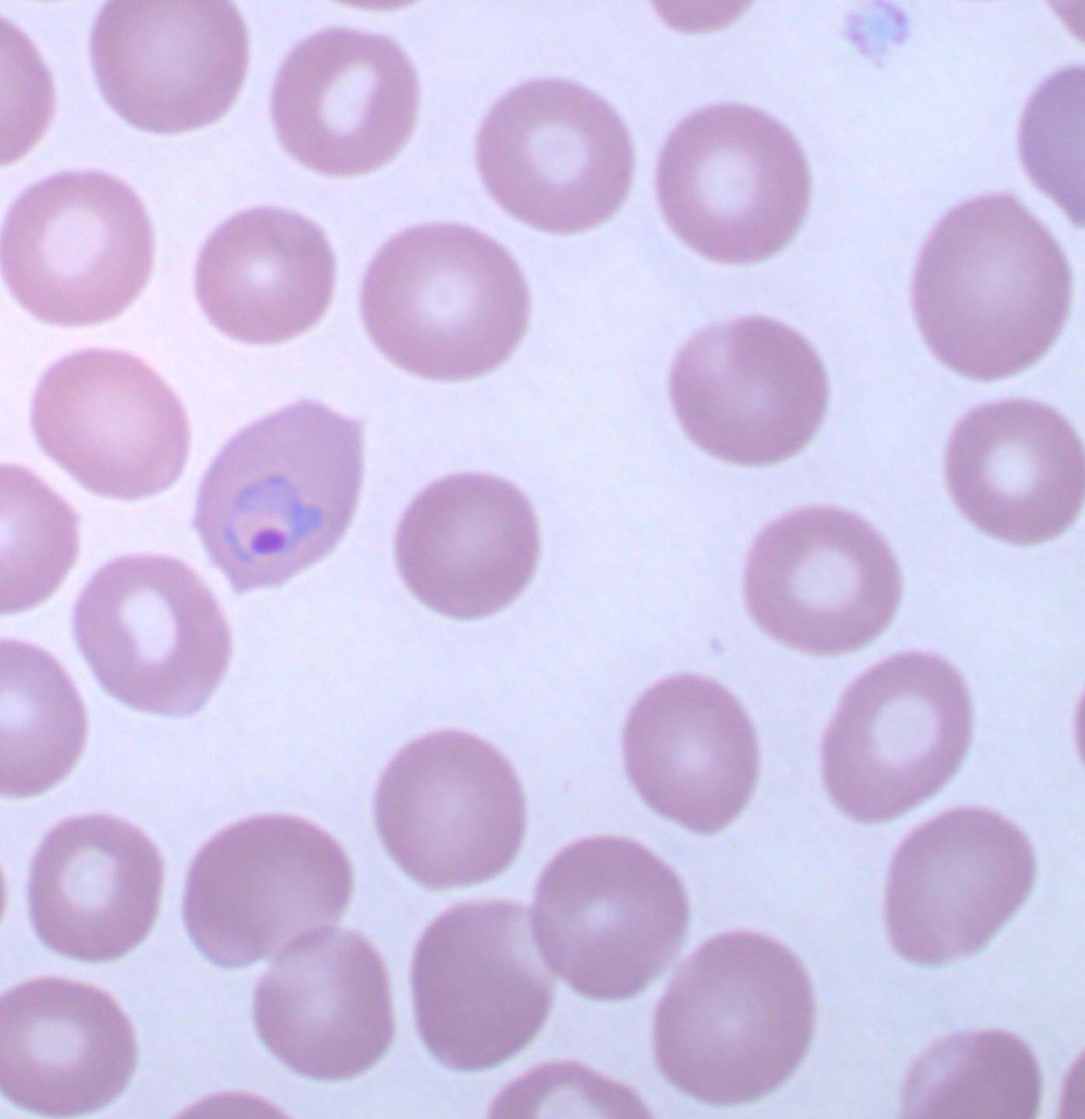Infected: (196, 403, 367, 595)
Uninfected: (913, 189, 1073, 379), (651, 930, 816, 1107), (359, 216, 532, 382), (411, 902, 569, 1071), (183, 815, 353, 971), (655, 100, 810, 266), (822, 656, 972, 824), (536, 836, 686, 1004), (76, 554, 229, 718), (2, 166, 154, 329), (478, 76, 633, 235), (668, 313, 830, 465), (31, 346, 190, 499), (375, 727, 521, 892), (744, 506, 904, 654), (888, 807, 1033, 964), (85, 0, 251, 135), (266, 30, 423, 172), (255, 924, 394, 1080), (624, 678, 761, 836), (396, 473, 540, 620), (946, 395, 1085, 546), (26, 817, 162, 961), (194, 208, 335, 345), (0, 978, 134, 1116), (0, 640, 87, 800)
